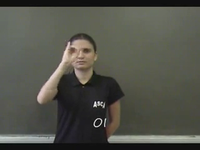oi: (59, 38, 80, 67)
